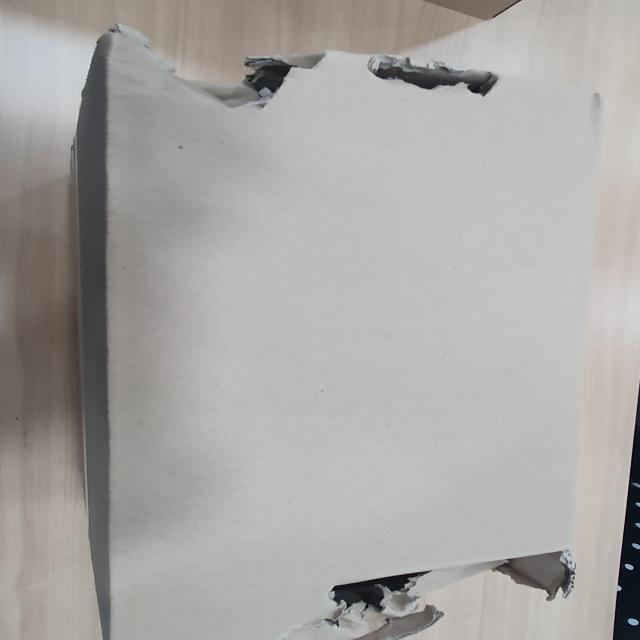hole: (135, 30, 330, 107), (360, 53, 500, 109), (318, 557, 446, 612)
